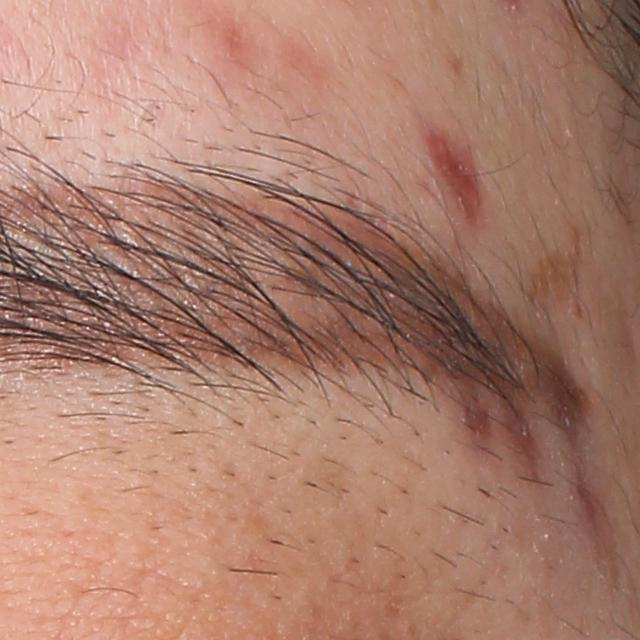atrophic_scar: (554, 380, 603, 524), (501, 382, 550, 484), (459, 369, 496, 446)
